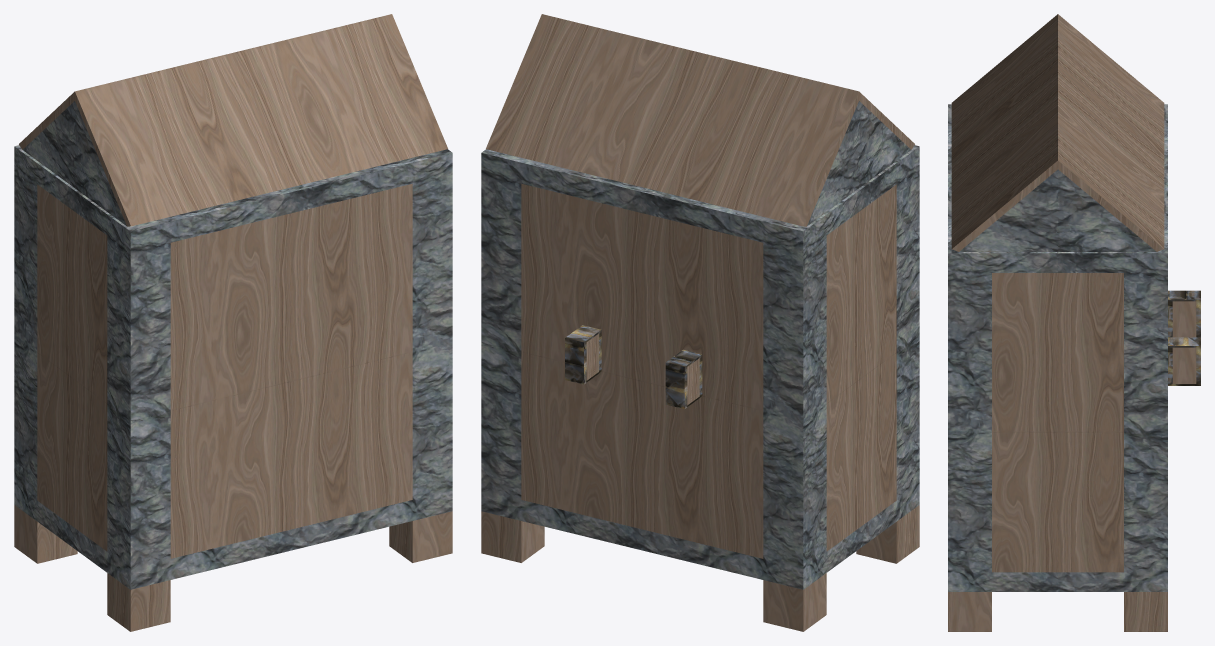
Rendered from Wardrobe.obj.
The picture shows the model from 3 angles, left to right: view 1: azimuth 30°, elevation 25°; view 2: azimuth 150°, elevation 25°; view 3: azimuth 270°, elevation 25°; orthographic projection. The views are drawn at different scales.
Size of the model in its own units: 1.6 by 2.36 by 1.15.
Materials: 5 (4 with a texture image).
